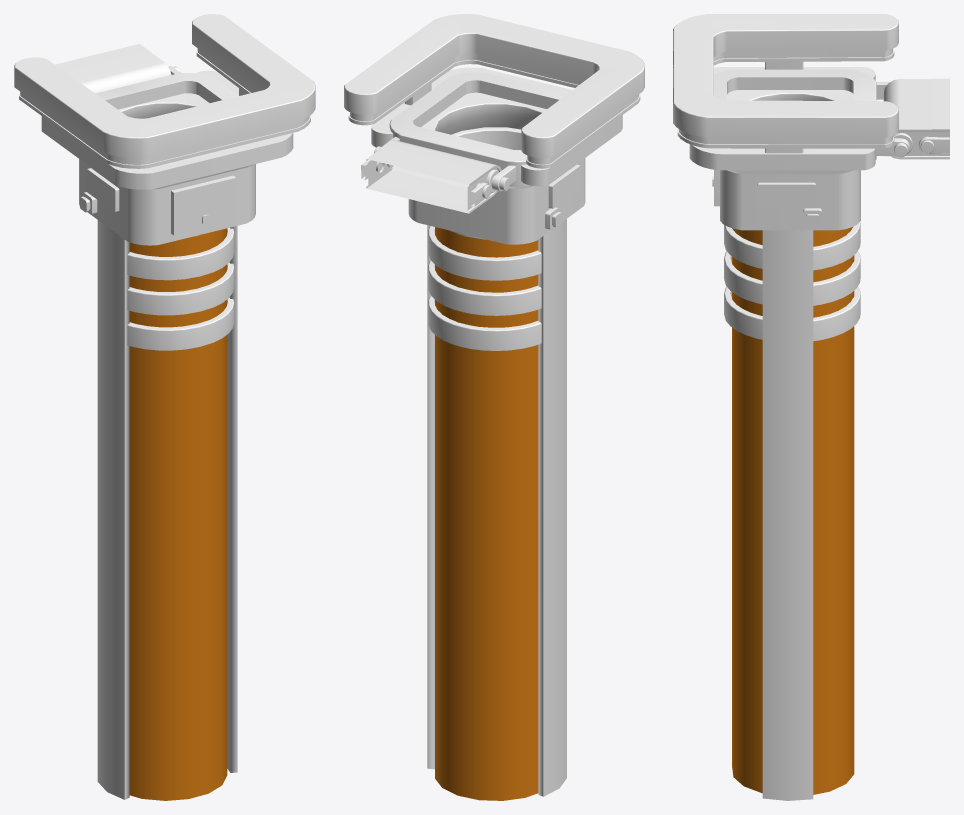
File: ExtractorDefaultInternalVariant.gltf
The picture shows the model from 3 angles, left to right: view 1: azimuth 30°, elevation 25°; view 2: azimuth 150°, elevation 25°; view 3: azimuth 270°, elevation 25°; orthographic projection.
Visible parts, largest first — view 1: Extractor_Default_Main_LOD0, Extractor_Default_Glass_LOD0; view 2: Extractor_Default_Main_LOD0, Extractor_Default_Glass_LOD0; view 3: Extractor_Default_Main_LOD0, Extractor_Default_Glass_LOD0.
Boxes of the visible parts, x1,y1,x2,y2 form: Extractor_Default_Main_LOD0: [14, 14, 315, 799]; Extractor_Default_Glass_LOD0: [129, 228, 227, 800]; Extractor_Default_Main_LOD0: [344, 14, 644, 796]; Extractor_Default_Glass_LOD0: [435, 227, 538, 800]; Extractor_Default_Main_LOD0: [673, 14, 949, 800]; Extractor_Default_Glass_LOD0: [732, 227, 854, 794].
Bounding box in the file's own units: 0.7819 × 2.48 × 0.8825.
